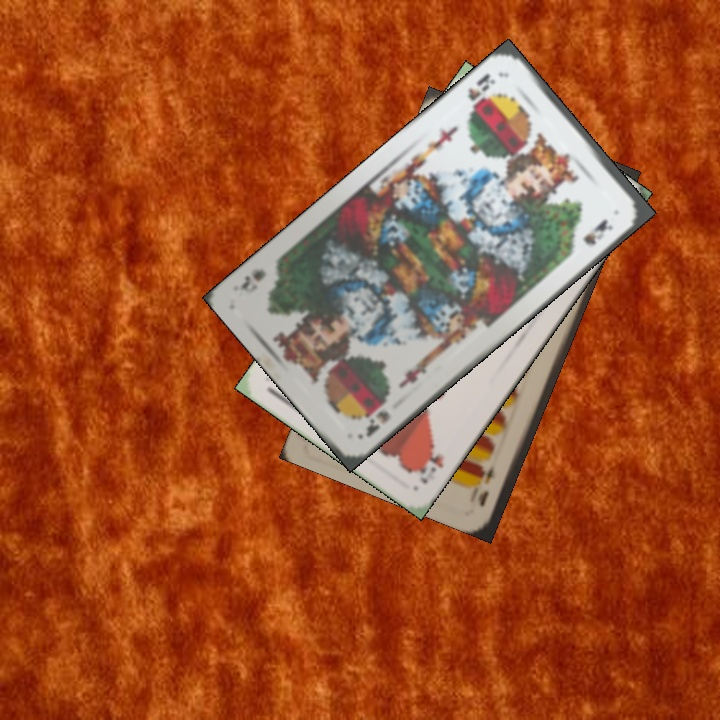E10: (474, 460, 498, 510)
HO: (412, 441, 447, 487)
SK: (462, 69, 498, 118), (361, 396, 393, 440)
